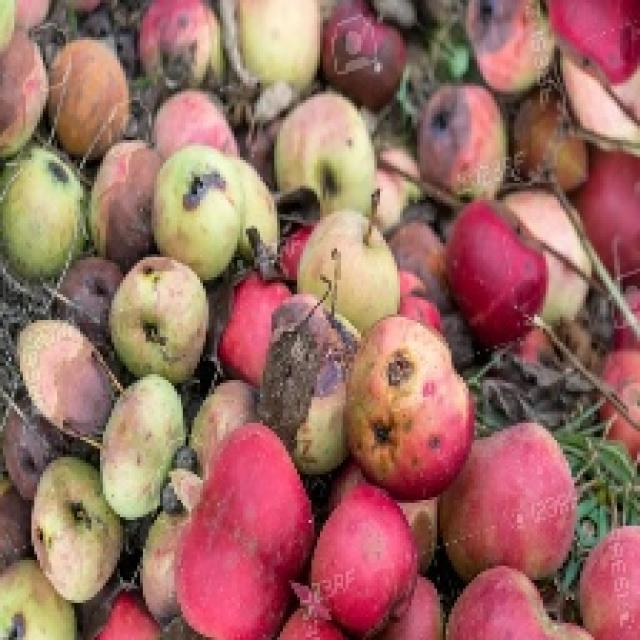rotten_apple: (352, 322, 467, 486), (268, 296, 353, 472), (31, 464, 117, 596), (17, 320, 114, 434), (119, 261, 207, 373), (422, 86, 503, 196), (50, 44, 129, 148), (466, 0, 550, 92), (94, 144, 151, 257), (138, 2, 207, 89), (56, 258, 116, 325), (3, 412, 47, 497)
